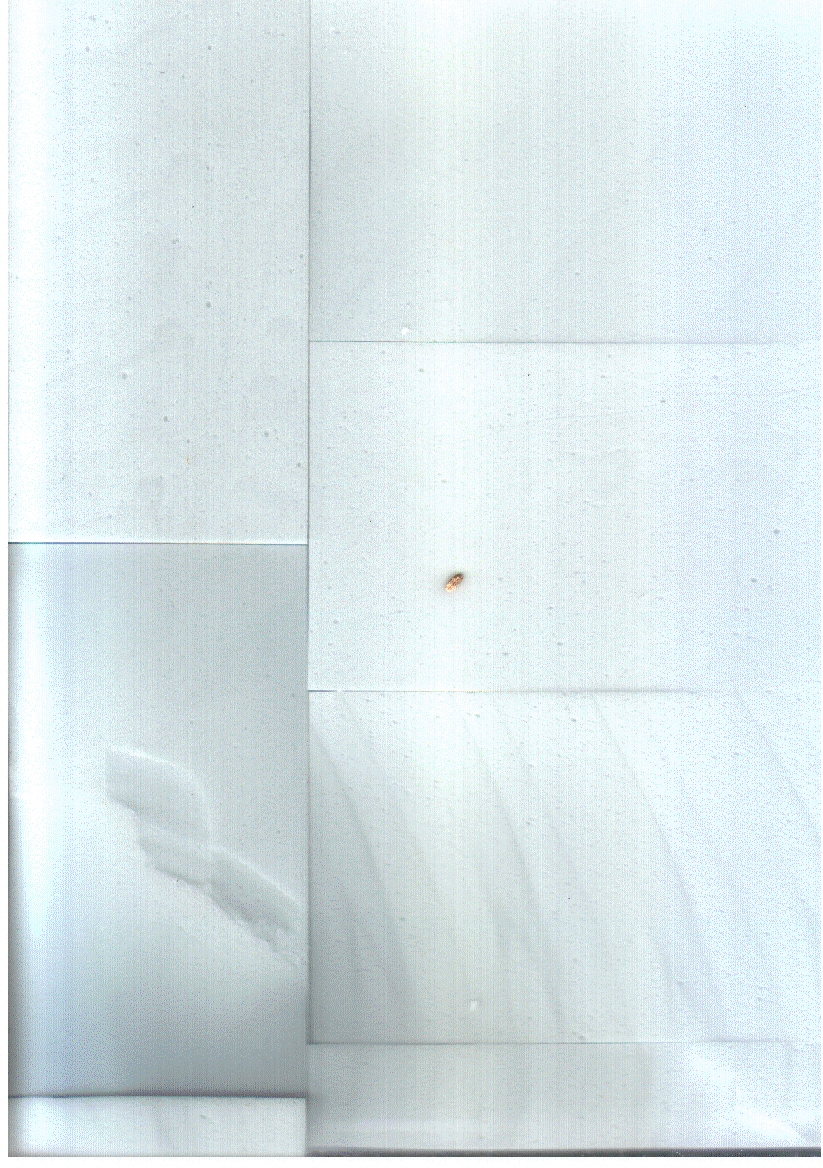grains: (435, 556, 474, 602)
